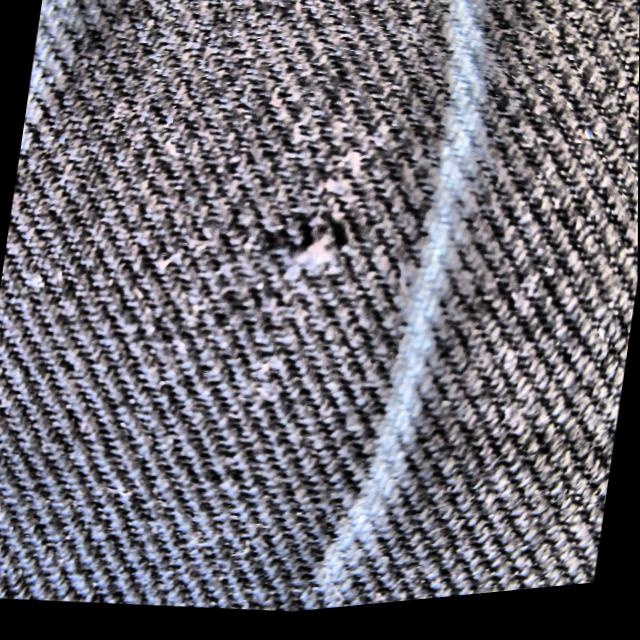Hole: (227, 178, 391, 315), (285, 215, 352, 284)
